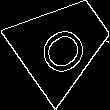O_NE: (31, 11, 95, 76)
